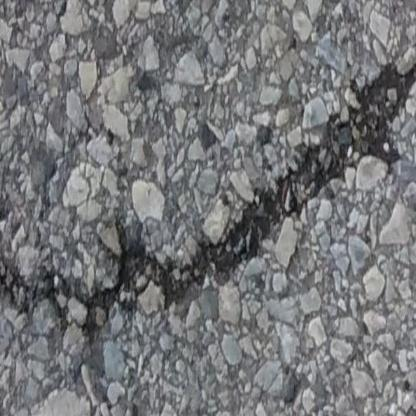Cracks: (0, 25, 416, 335)
